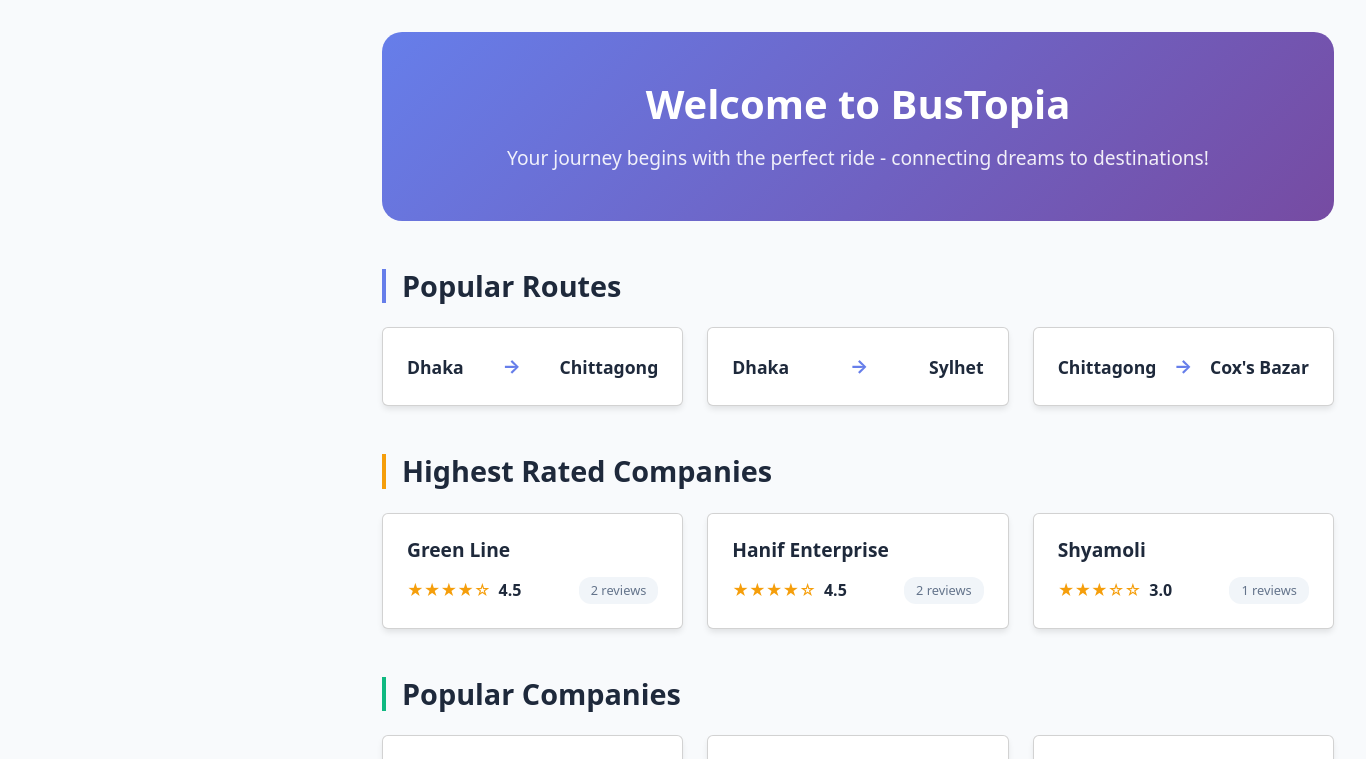
Test: Home Component › handles company click and opens company modal
The image size is (1366, 759).
Expected: the heading "Highest Rated Companies" is shown, top-left (382, 454), bottom-right (1334, 489)
Click the heading "Green Line" below "Highest Rated Companies": [459, 549] box top-left (407, 536), bottom-right (510, 563)
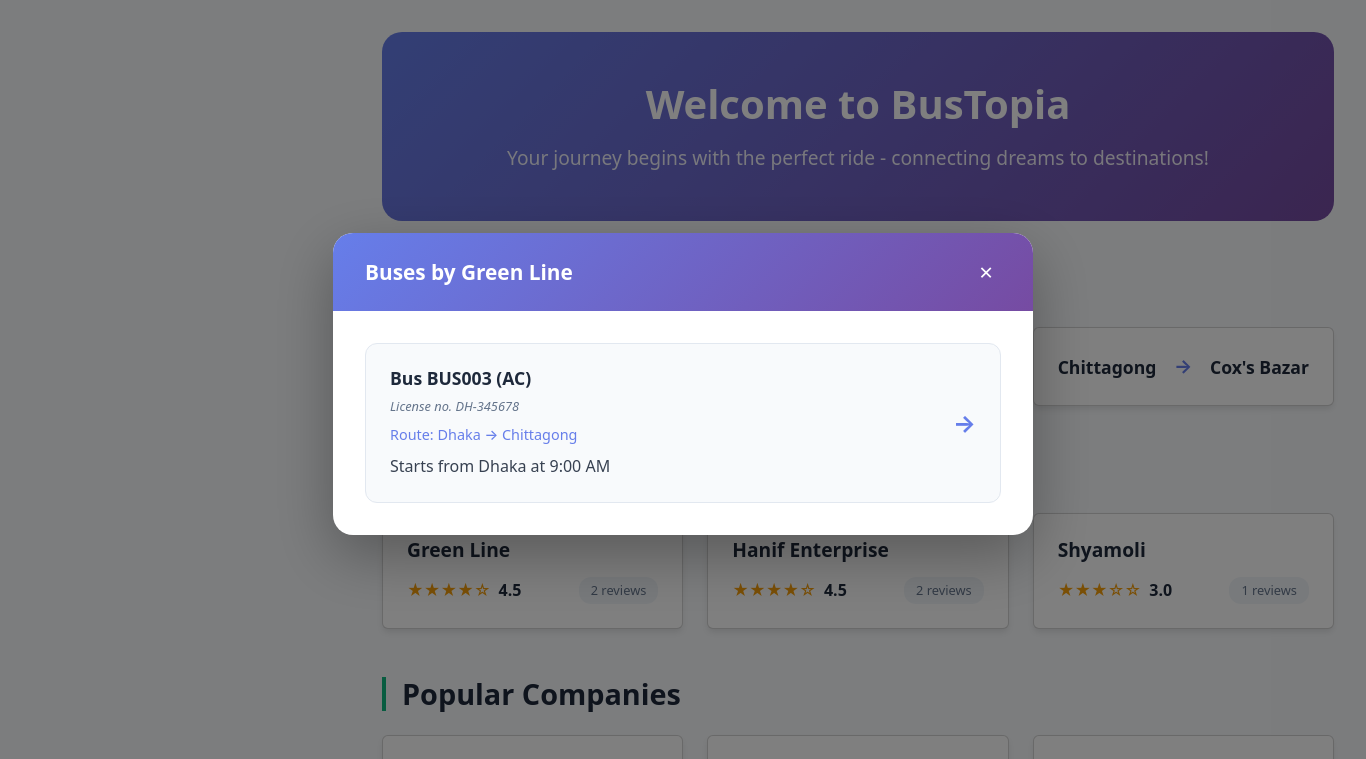
Expected: the heading "Buses by Green Line" is shown, top-left (365, 260), bottom-right (573, 285)
